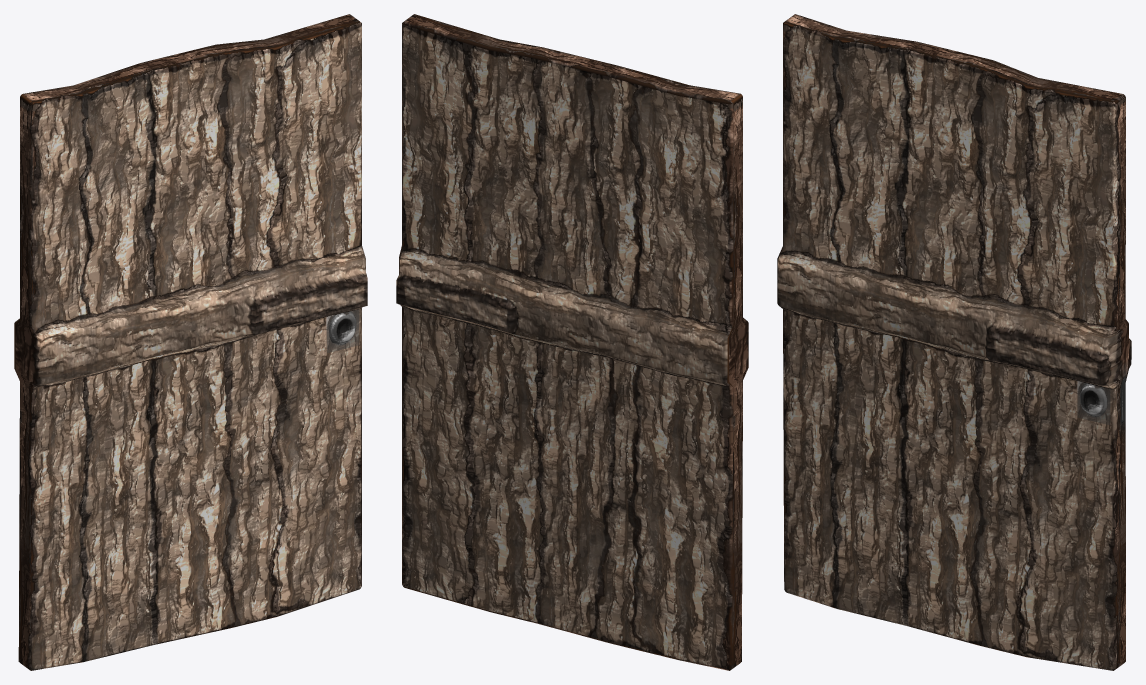
File: wood_door.fbx
3 renders of one model, left to right at view 1: azimuth 30°, elevation 25°; view 2: azimuth 150°, elevation 25°; view 3: azimuth 330°, elevation 25°, orthographic.
Visible parts, largest first — view 1: wood_door; view 2: wood_door; view 3: wood_door.
Boxes of the visible parts, <box> form: wood_door: <box>14,14,367,670</box>; wood_door: <box>396,14,748,670</box>; wood_door: <box>777,14,1131,670</box>.
Size of the model in its own units: 207 by 342 by 32.22.
